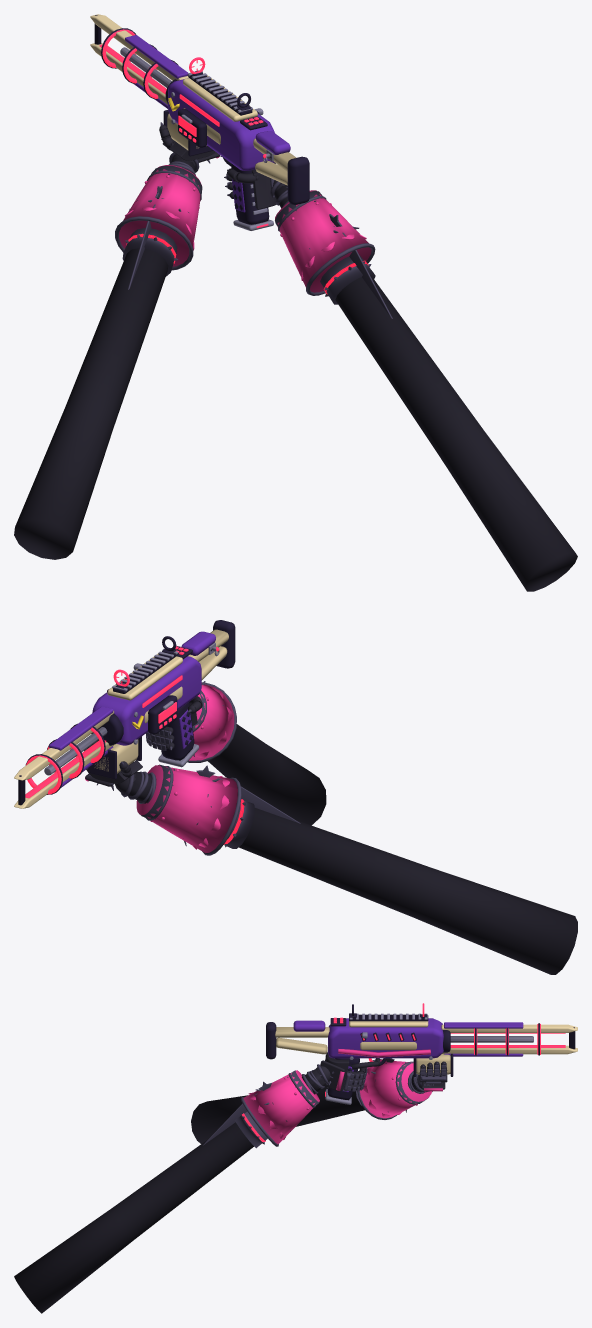
The model's file is rail_lancer.glb.
3 views of the same model, one above another, from view 1: azimuth 30°, elevation 25°; view 2: azimuth 150°, elevation 25°; view 3: azimuth 270°, elevation 25° (orthographic). The views are drawn at different scales.
Visible parts, largest first — view 1: ArmR, ArmL, Shell, ArmRKitBell, ArmLKitBell, Rails, Cell; view 2: ArmL, Shell, ArmR, ArmLKitBell, Rails, ArmRKitBell, Cell, ArmLKitFins, ArmRKitGauntlet, ArmLKitGauntlet; view 3: ArmR, Shell, ArmRKitBell, ArmL, Rails, ArmLKitBell, ArmRKitGauntlet, ArmLKitGauntlet, ArmRKitMitten.
Part boxes in pixels (bbox=[...]): ArmR: bbox=[227, 163, 577, 591]; ArmL: bbox=[14, 125, 215, 559]; Shell: bbox=[101, 28, 309, 230]; ArmRKitBell: bbox=[275, 190, 375, 295]; ArmLKitBell: bbox=[115, 165, 201, 270]; Rails: bbox=[90, 14, 188, 108]; Cell: bbox=[178, 109, 206, 147]; ArmL: bbox=[86, 741, 577, 974]; Shell: bbox=[25, 620, 235, 794]; ArmR: bbox=[148, 696, 326, 825]; ArmLKitBell: bbox=[136, 765, 241, 855]; Rails: bbox=[14, 706, 114, 808]; ArmRKitBell: bbox=[187, 682, 236, 762]; Cell: bbox=[148, 695, 177, 734]; ArmLKitFins: bbox=[217, 778, 300, 823]; ArmRKitGauntlet: bbox=[146, 691, 208, 750]; ArmLKitGauntlet: bbox=[84, 748, 178, 821]; ArmR: bbox=[14, 1052, 380, 1313]; Shell: bbox=[266, 1013, 540, 1104]; ArmRKitBell: bbox=[241, 1070, 319, 1146]; ArmL: bbox=[191, 1061, 447, 1143]; Rails: bbox=[441, 1022, 577, 1056]; ArmLKitBell: bbox=[357, 1058, 431, 1119]; ArmRKitGauntlet: bbox=[284, 1061, 367, 1109]; ArmLKitGauntlet: bbox=[391, 1062, 446, 1105]; ArmRKitMitten: bbox=[321, 1060, 344, 1091].
Size of the model in its own units: 1.42 by 1.15 by 2.14.
